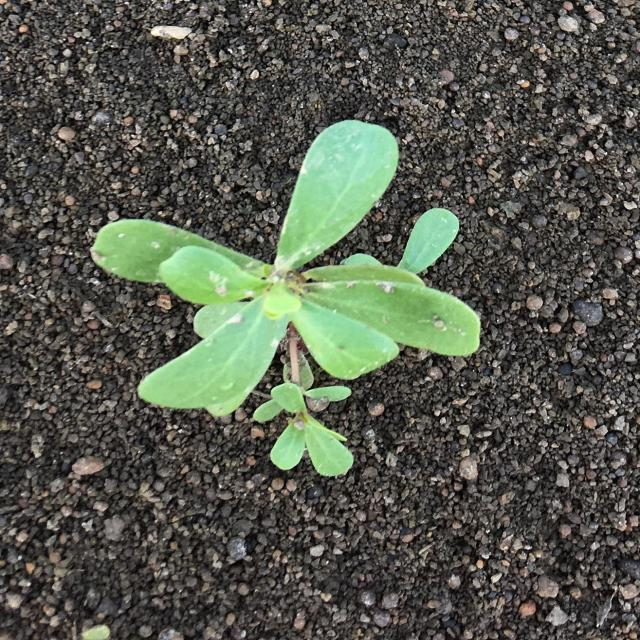Purslane: (92, 120, 480, 476)
